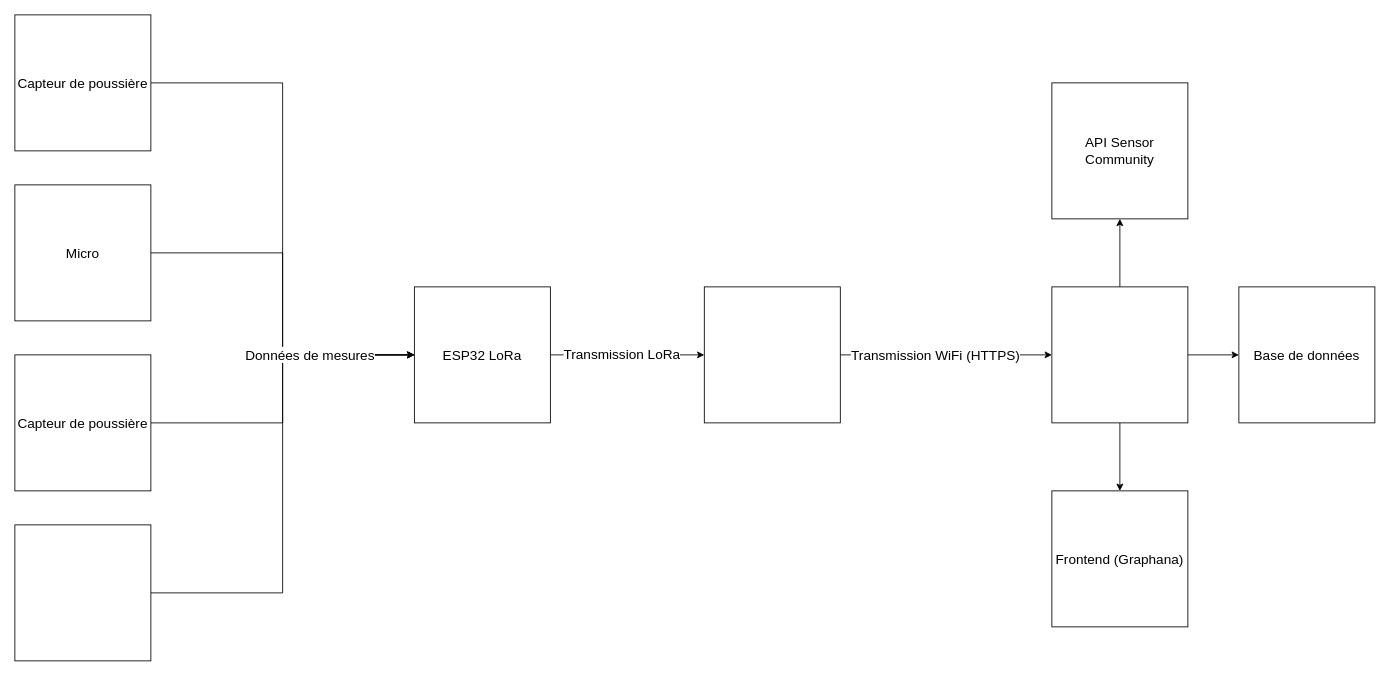
This 1390x676 diagram has some shape labels left out. Here are the shapes that lost their labels. From the top down, the centre of each, then its label:
At point (771, 354): "Gateway".
At point (1119, 354): "Backend".
At point (82, 592): "Capteur de pression".
